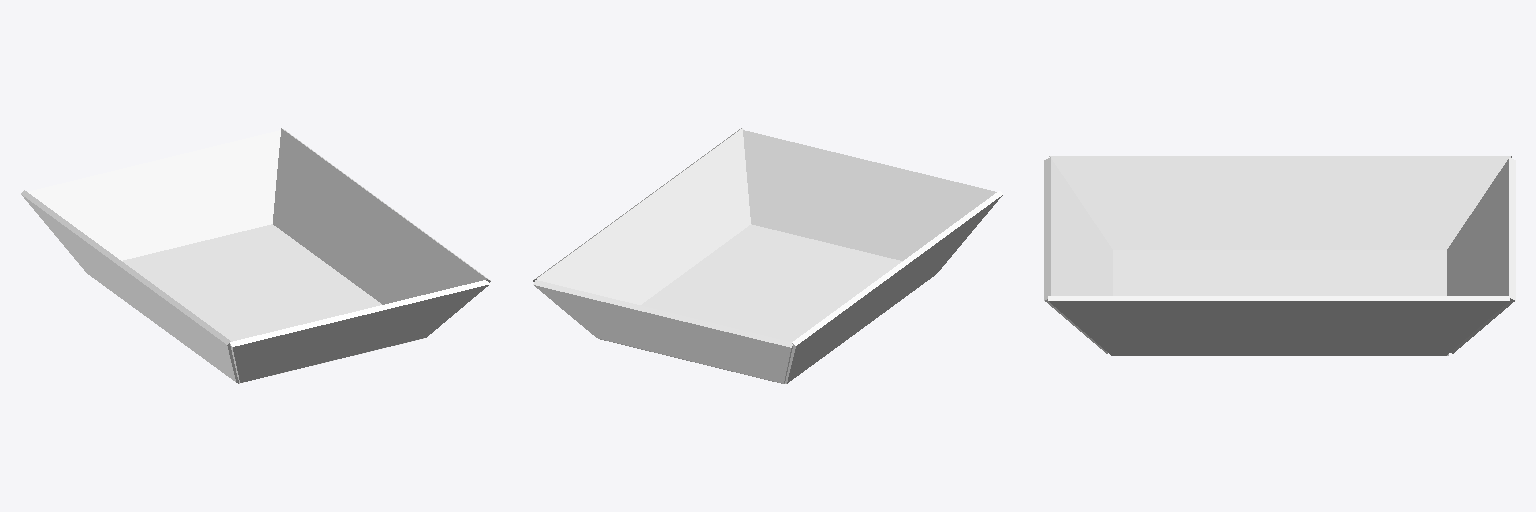
URDF robot description (tray):
<robot name="tray">
  <link name="tray_base_link">
    <contact>
      <lateral_friction value="0.5"/>
      <rolling_friction value="0.0"/>
      <contact_cfm value="0.0"/>
      <contact_erp value="1.0"/>
    </contact>
    <inertial>
      <origin rpy="0 0 0" xyz="0 0 0"/>
      <mass value="0"/>
      <inertia ixx="0" ixy="0" ixz="0" iyy="0" iyz="0" izz="0"/>
    </inertial>
    <visual>
      <origin rpy="0 0 0" xyz="0 0 0"/>
      <geometry>
        <mesh filename="tray_no_divider.obj" scale="0.45 0.6 0.5"/>
      </geometry>
      <material name="tray_material">
        <color rgba="1 1 1 1"/>
      </material>
    </visual>
    <collision>
      <origin rpy="0 0 0" xyz="0 0 0"/>
      <geometry>
        <mesh filename="tray_no_divider.obj" scale="0.45 0.6 0.5"/>
      </geometry>
    </collision>
  </link>
</robot>

--- Facts derived from the render (not from the file) ---
The picture shows the robot from 3 angles, left to right: view 1: azimuth 30°, elevation 25°; view 2: azimuth 150°, elevation 25°; view 3: azimuth 270°, elevation 25°; orthographic projection.
Model tray with 1 links and 0 joints (none), rooted at tray_base_link, posed every joint at zero.
Links seen in each view (by area): view 1: tray_base_link; view 2: tray_base_link; view 3: tray_base_link.
Link boxes in pixels (box(x1,y1,x2,y2)): tray_base_link: box(21, 128, 490, 383); tray_base_link: box(533, 128, 1002, 383); tray_base_link: box(1044, 156, 1515, 355).
Bounding box of the posed robot: 0.5344 × 0.7386 × 0.1384 m (x, y, z).
1 mesh visuals loaded from 1 distinct referenced files (1 OBJ).